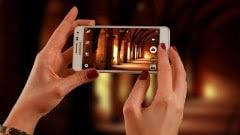Hand: (29, 10, 105, 112), (124, 47, 197, 130)
Smartphone: (74, 28, 173, 72)
